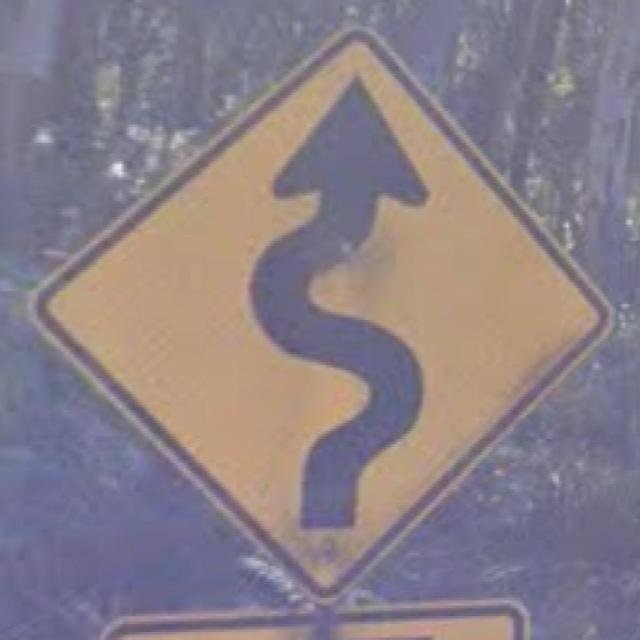Banyak Tikungan Pertama Kanan: (19, 13, 619, 608)
